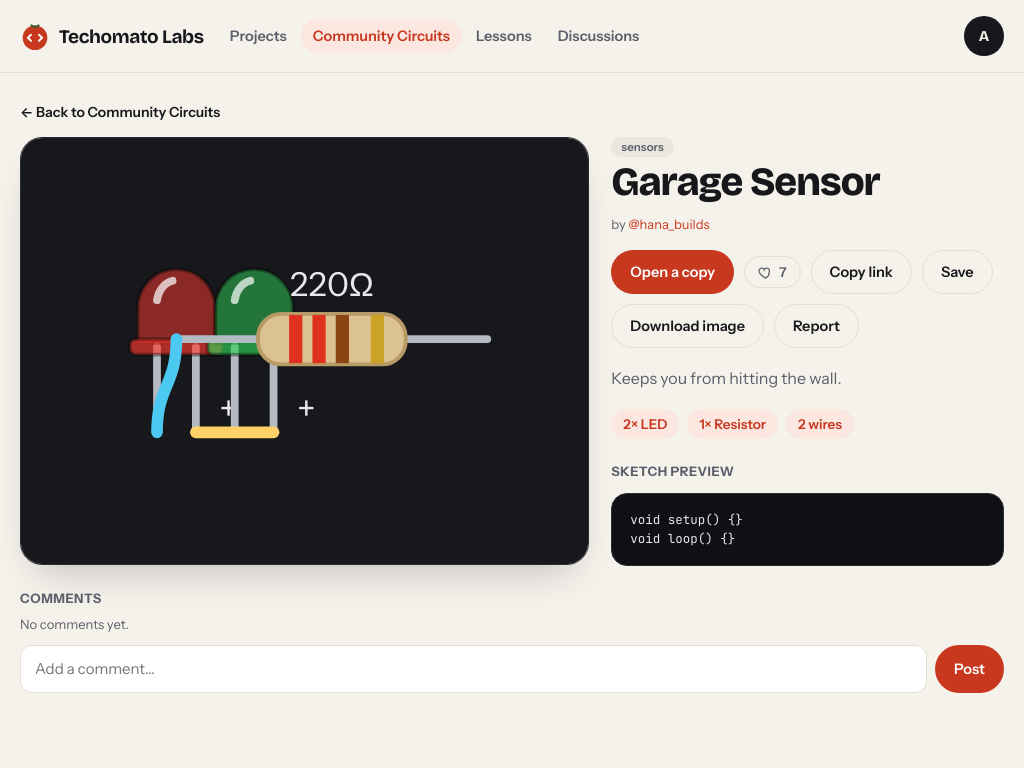
DetailPage › saves a circuit for later and opens the report dialog
Later steps or results of the test are not shown.
Click the button "Save" at (957, 272), box [922,250,993,294]
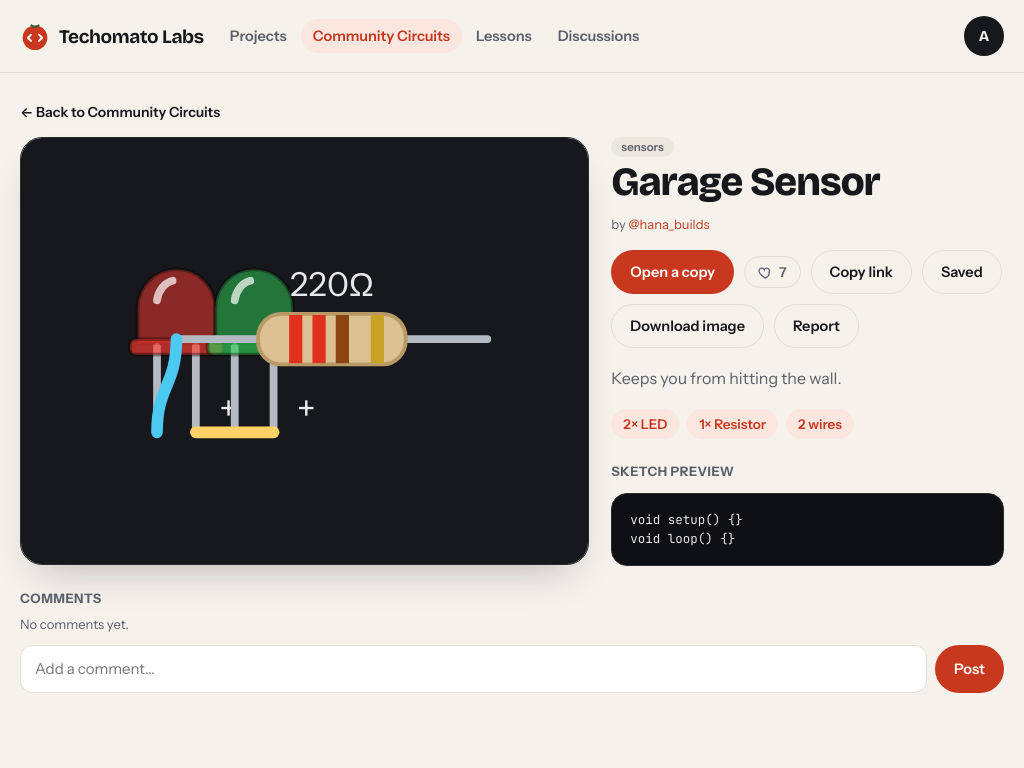
Now the button "Saved" is shown, box [922,250,1002,294]
